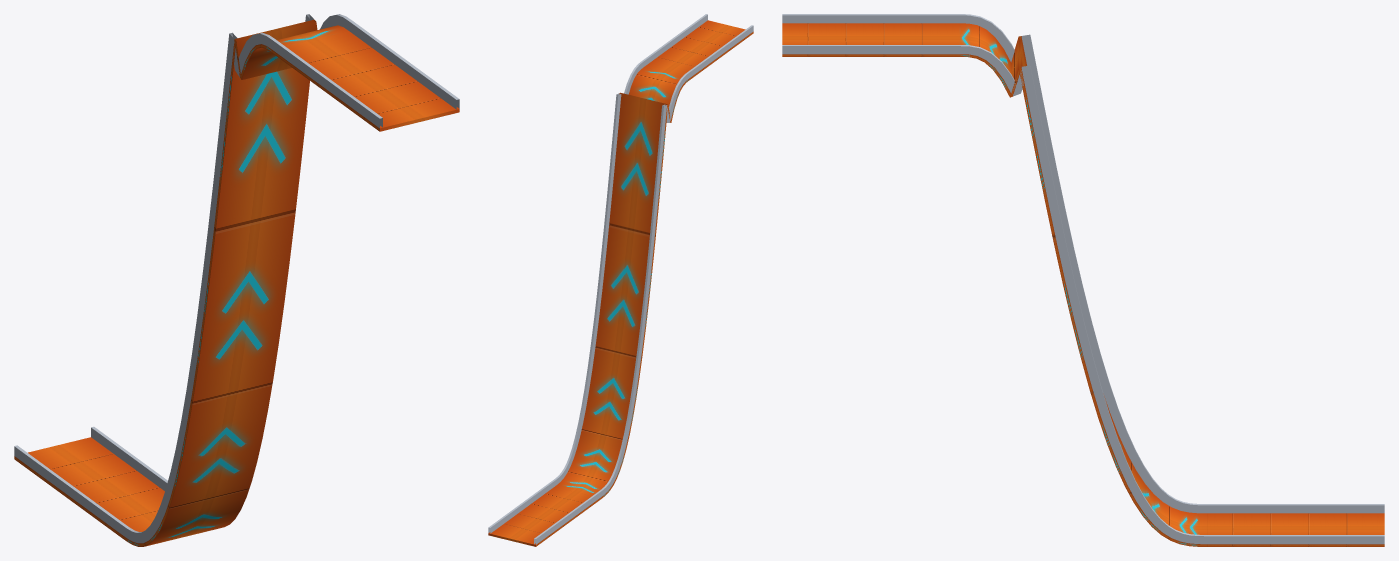
File: steep-ramp-80.glb
3 renders of one model, left to right at view 1: azimuth 30°, elevation 25°; view 2: azimuth 150°, elevation 25°; view 3: azimuth 270°, elevation 25°, orthographic. The views are drawn at different scales.
Size of the model in its own units: 3 by 21.8 by 23.76.
Materials: 4 (3 with a texture image).
